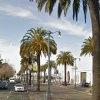Palm tree: (16, 16, 66, 88)
